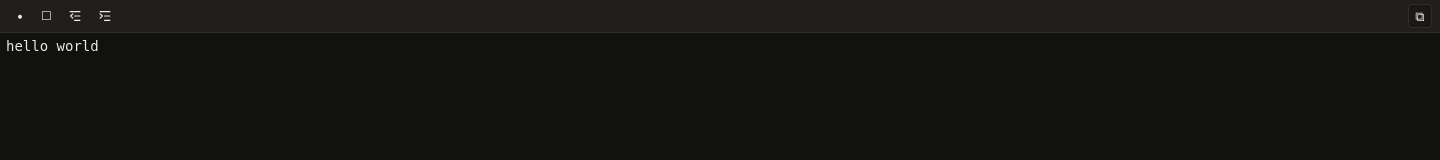
Scenario: NotesToolbar › Checkbox prepends `- [ ] ` to the current line
Click the button named "Checkbox".
click(46, 16)  # box [34,4,59,28]
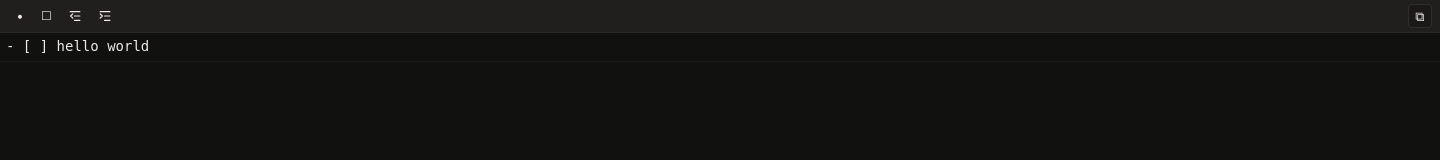
Result: the text box labelled "- [ ] hello world" is shown at [6,38,149,54]
